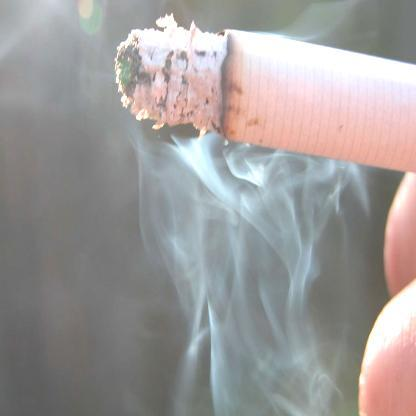cigarette: (117, 23, 415, 183)
smoke: (162, 144, 346, 416)
